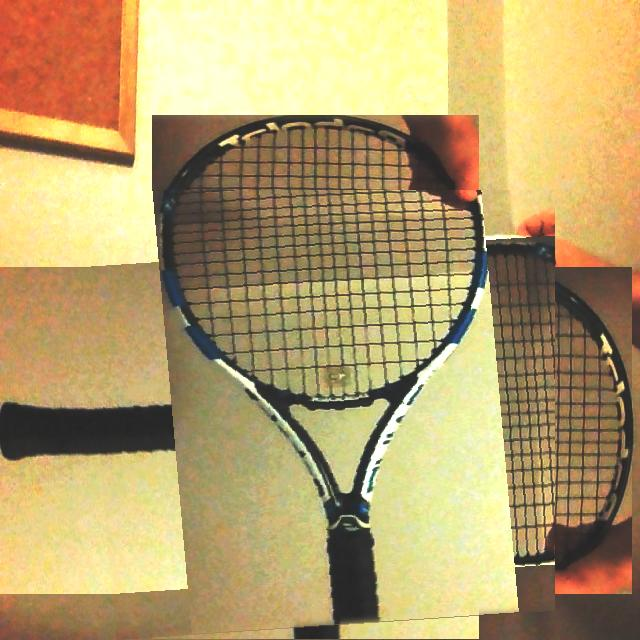TennisRacket: (76, 190, 555, 640)
